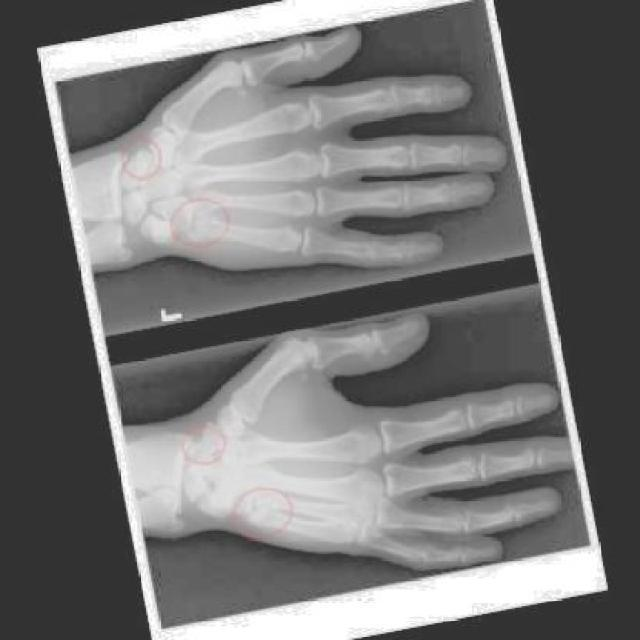Fracture: (245, 491, 290, 533), (122, 143, 167, 183), (182, 205, 225, 244), (183, 426, 223, 466)
